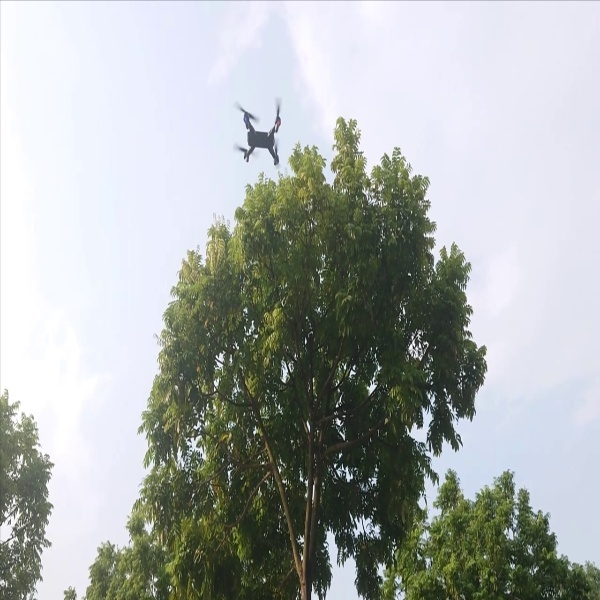drone: (226, 94, 287, 167)
